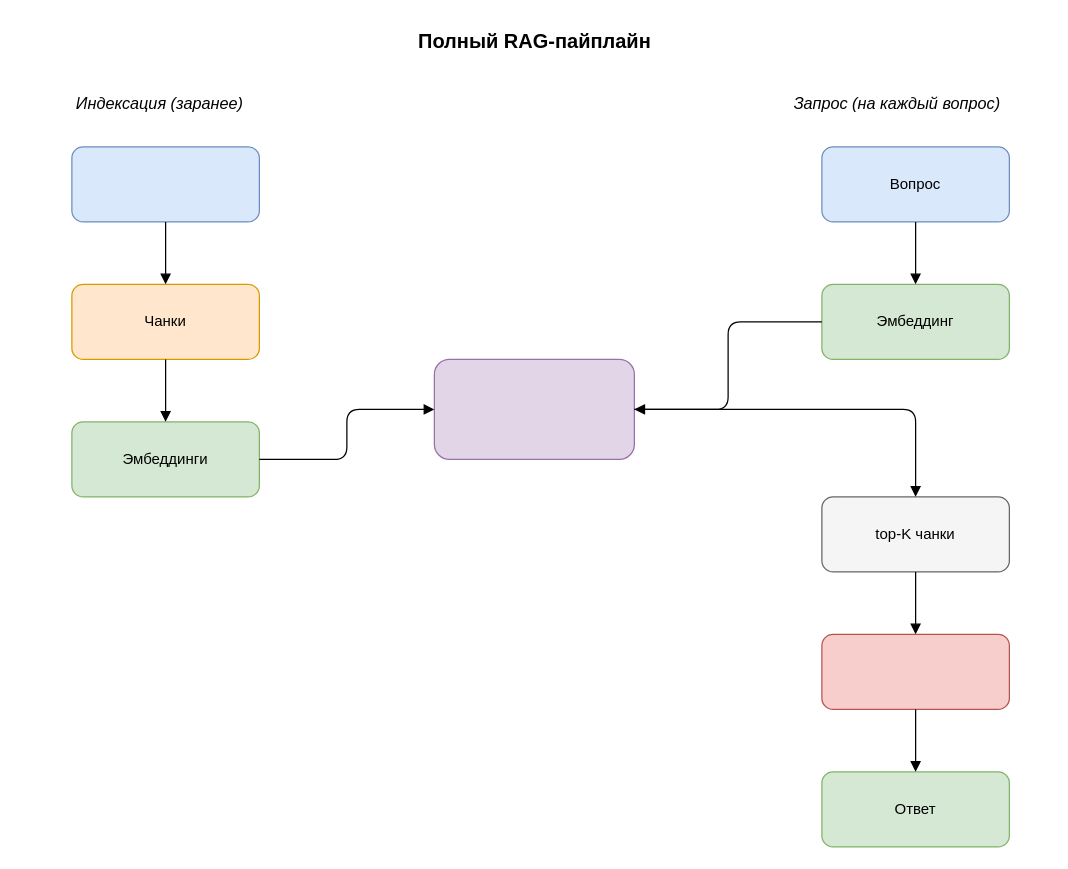
This 1068x869 diagram has some shape labels left out. Here are the shapes that lost their labels. From the top down, the centre of each, then its label:
[165,184]: Документы
[533,408]: Векторная БД
[915,671]: LLM
